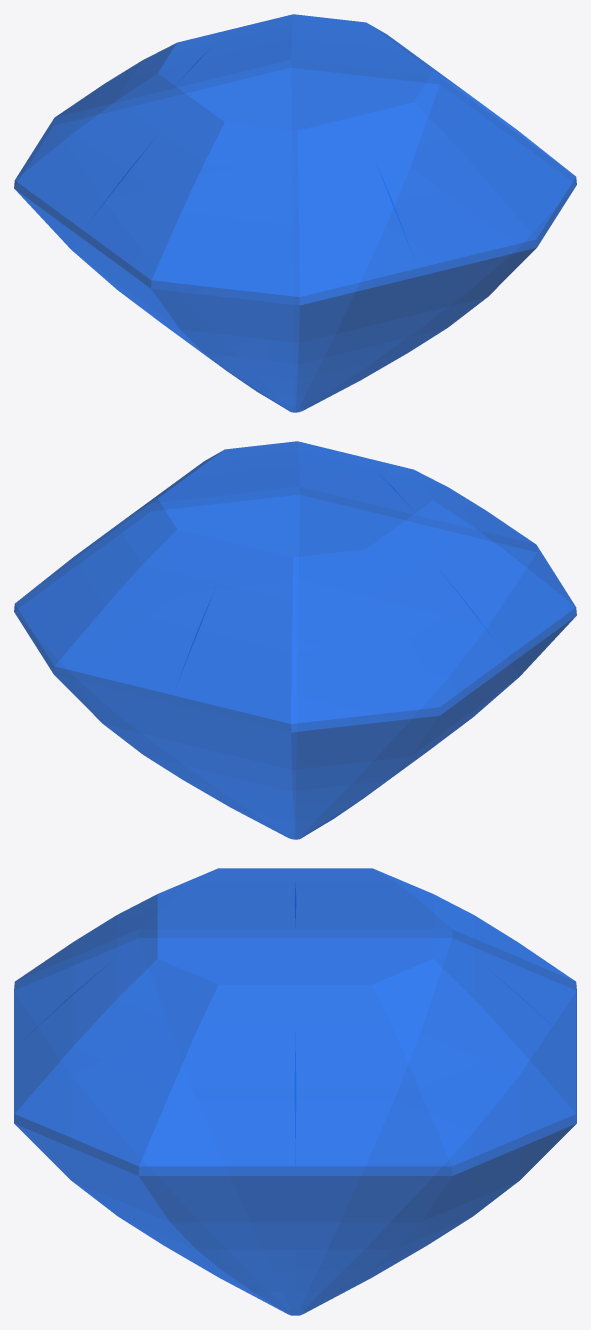
The model's file is assher lazulli.glb.
3 renders of one model, top to bottom at view 1: azimuth 30°, elevation 25°; view 2: azimuth 150°, elevation 25°; view 3: azimuth 270°, elevation 25°, orthographic. The views are drawn at different scales.
Parts seen in each view (by area): view 1: Asscher.001; view 2: Asscher.001; view 3: Asscher.001.
Part boxes in pixels (box(x1,y1,x2,y2)): Asscher.001: box(14, 14, 576, 412); Asscher.001: box(14, 441, 576, 839); Asscher.001: box(14, 868, 576, 1315).
Bounding box in the file's own units: 1.5 × 1.14 × 1.5.
